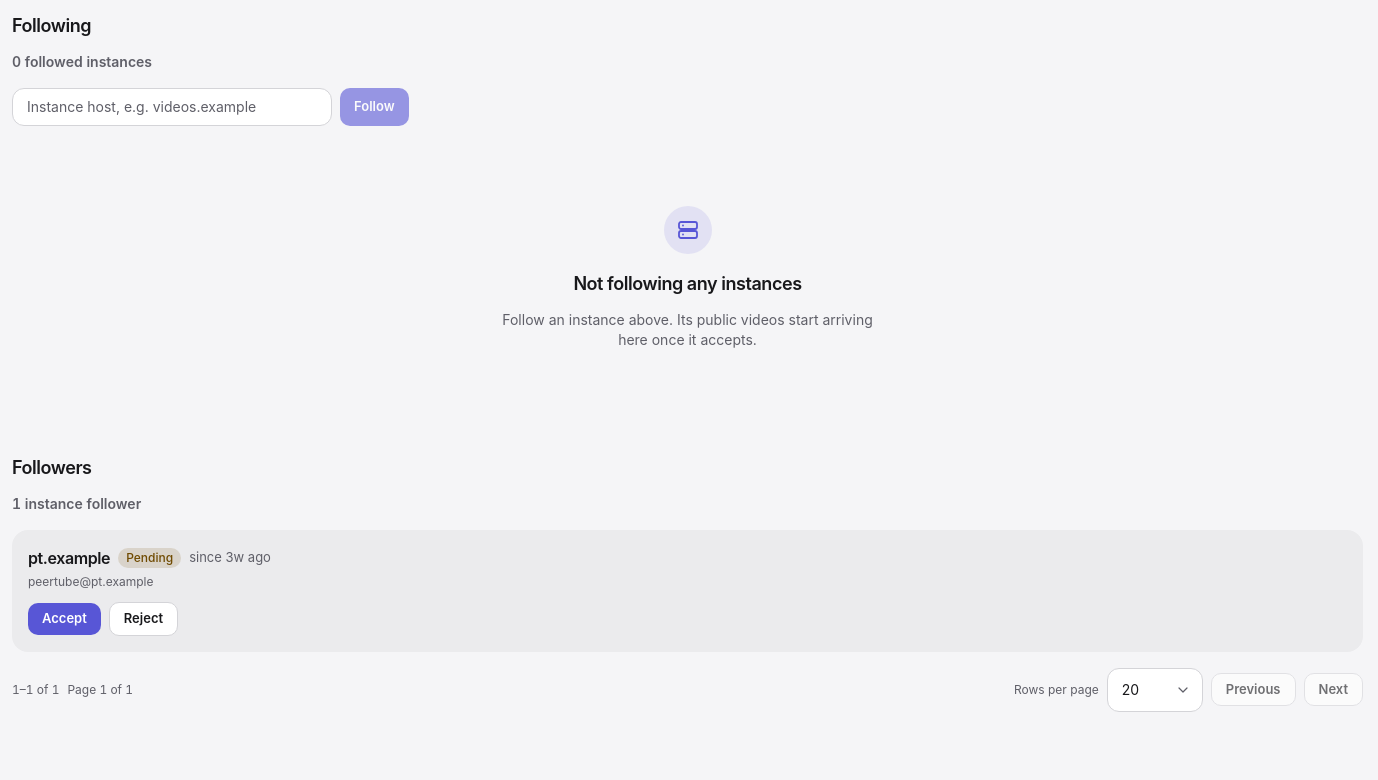
Test case: AdminFederationInstancesView › rejects, then removes, a follower
Click the button with aria-label "Reject pt.example": (143, 619) [109,602,178,636]
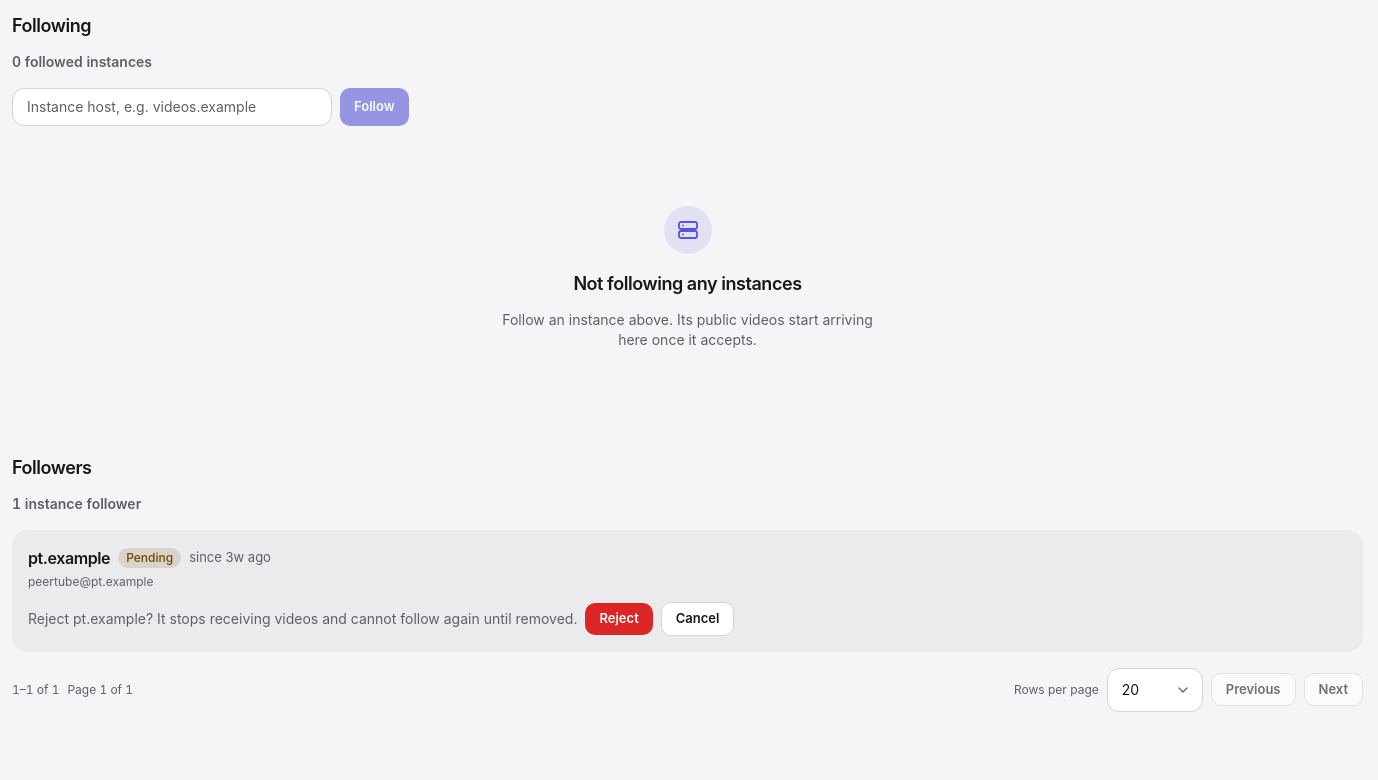
Click the button with aria-label "Confirm reject pt.example": (619, 619) [586,603,653,635]
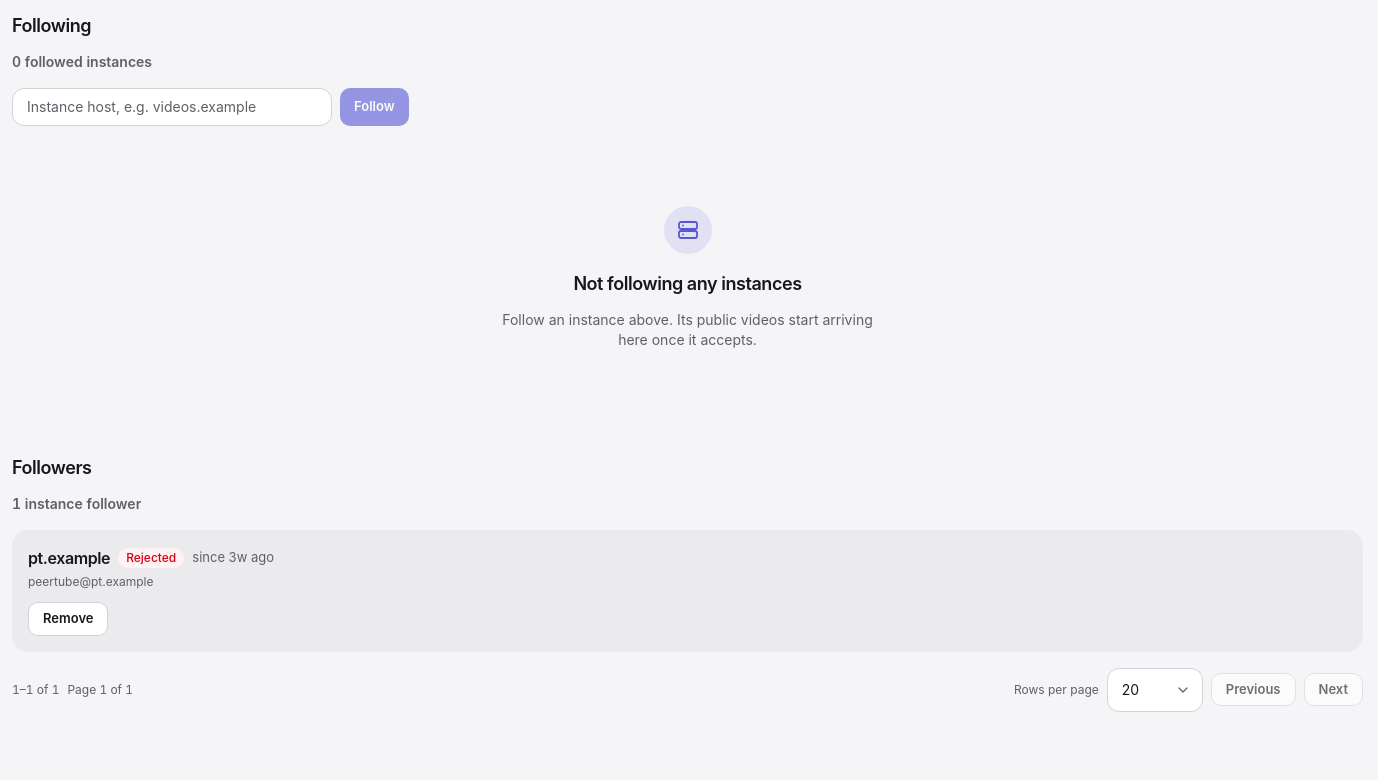
Expected: the text "Rejected" is shown, [118,548,184,568]
Click the button with aria-label "Remove pt.example": (68, 619) [28,602,108,636]
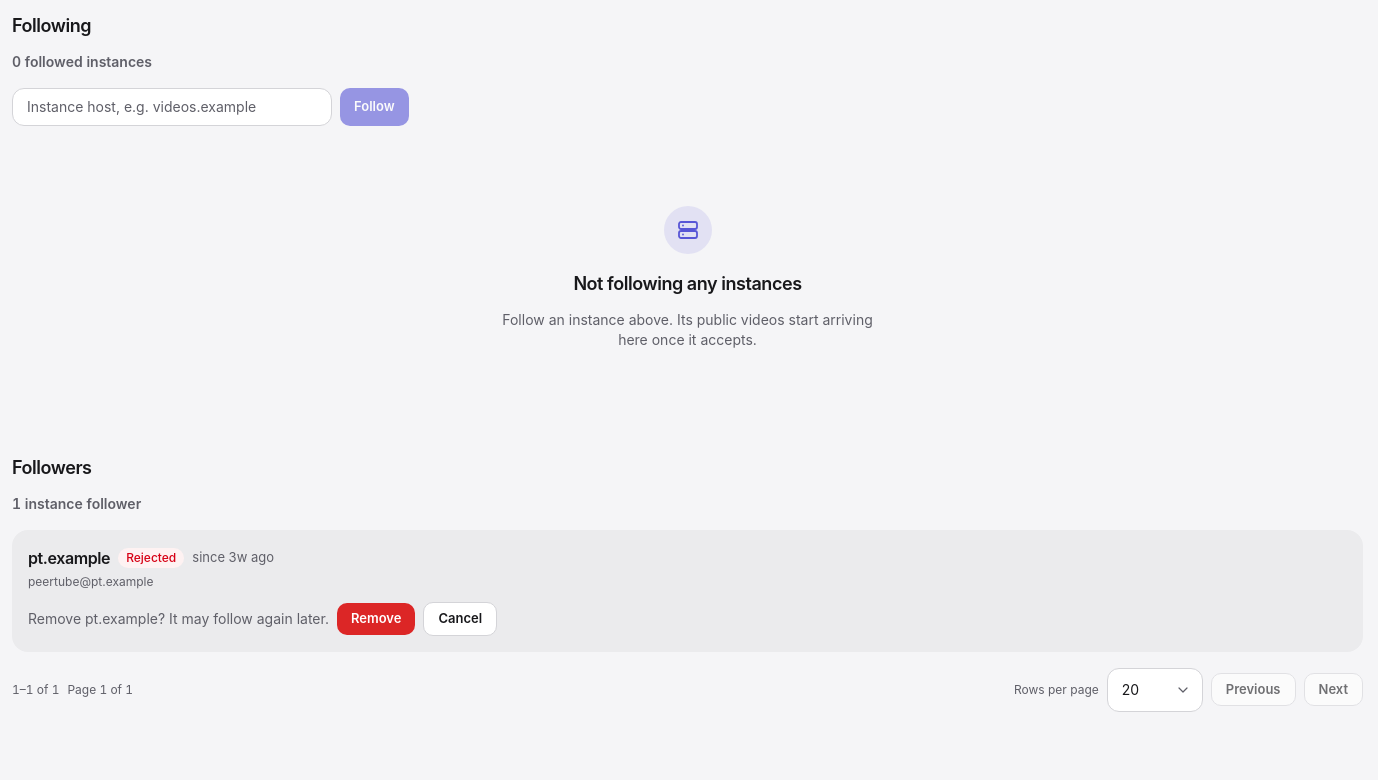
Click the button with aria-label "Confirm remove pt.example": (376, 619) [337,603,416,635]
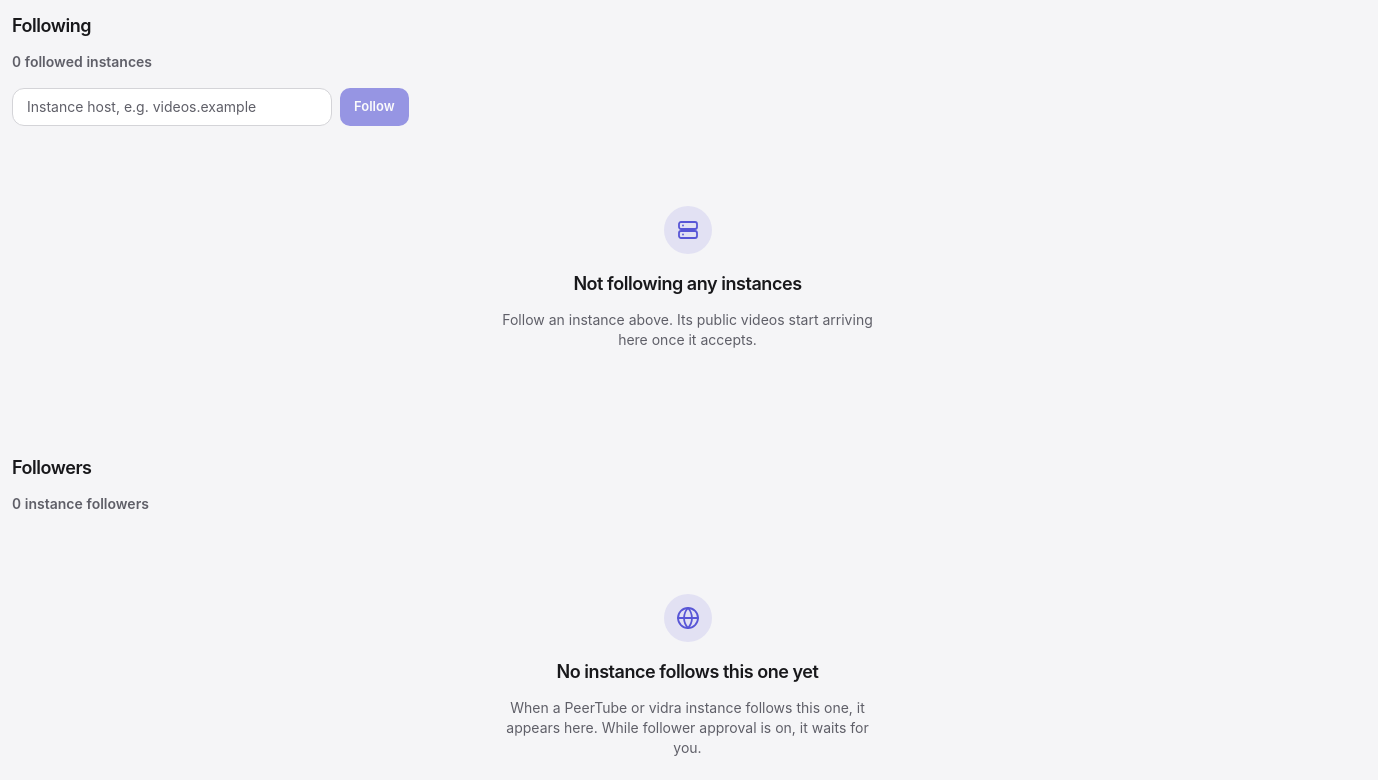
Expected: the text "No instance follows this one yet" is shown, [556,658,818,686]
